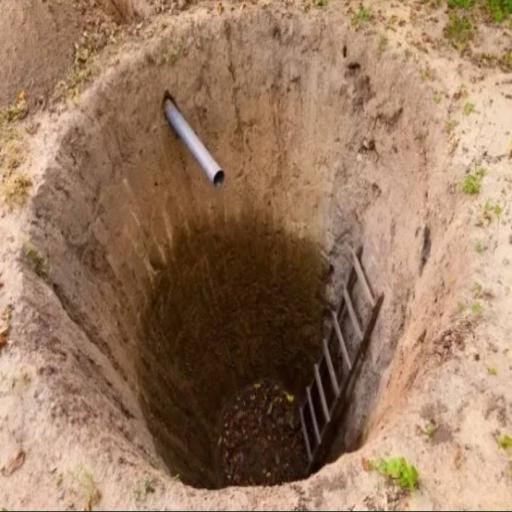construction_fence: (30, 11, 448, 489)
